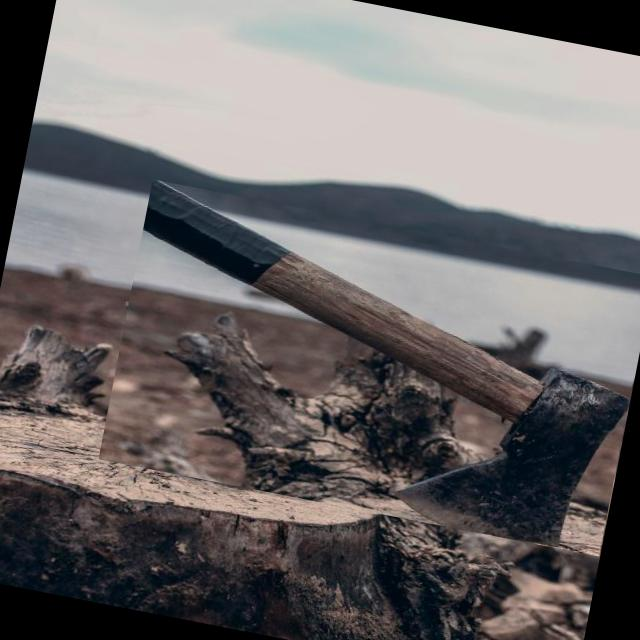Axe: (144, 180, 630, 546)
